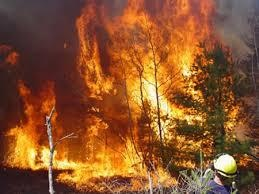fire: (0, 8, 229, 182)
